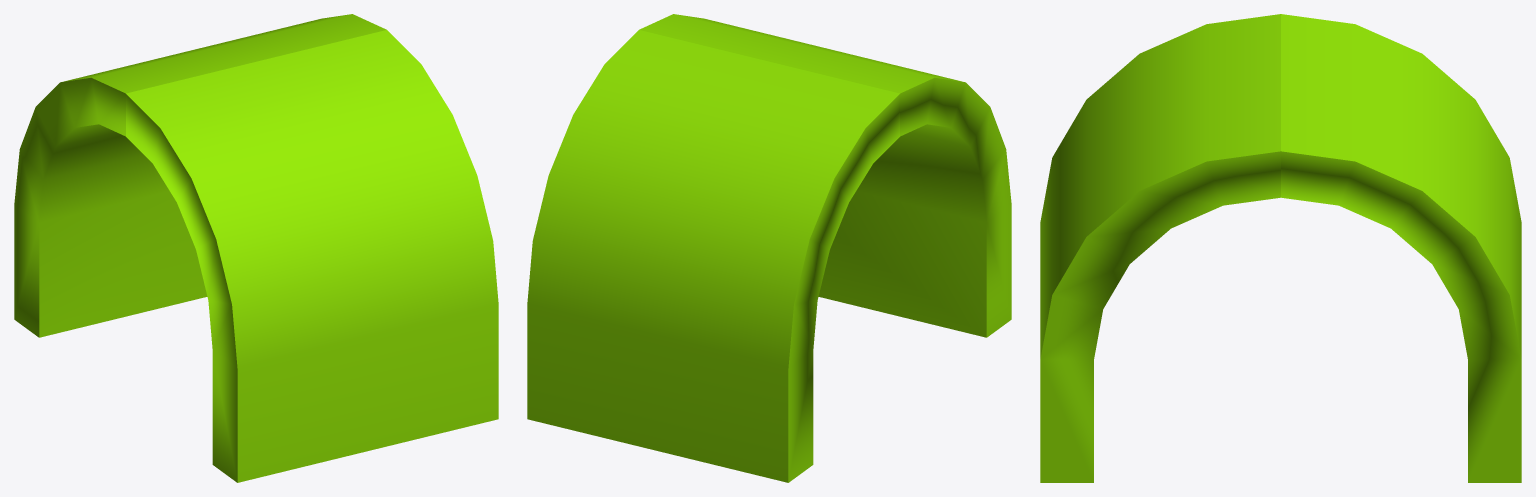
File: Corridor_01.fbx
3 views of the same model, side by side, from view 1: azimuth 30°, elevation 25°; view 2: azimuth 150°, elevation 25°; view 3: azimuth 270°, elevation 25° (orthographic). The views are drawn at different scales.
Parts seen in each view (by area): view 1: Corridor_01; view 2: Corridor_01; view 3: Corridor_01.
Boxes of the visible parts, bbox=[...] form: Corridor_01: bbox=[14, 14, 498, 482]; Corridor_01: bbox=[527, 14, 1011, 482]; Corridor_01: bbox=[1040, 14, 1521, 482].
Bounding box in the file's own units: 313 × 352 × 463.
